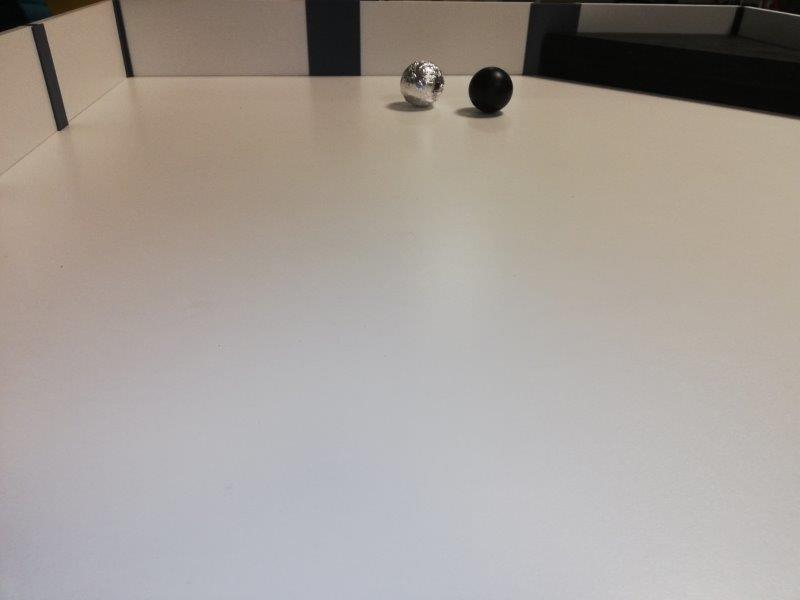bianca: (399, 60, 445, 105)
nera: (466, 66, 511, 113)
